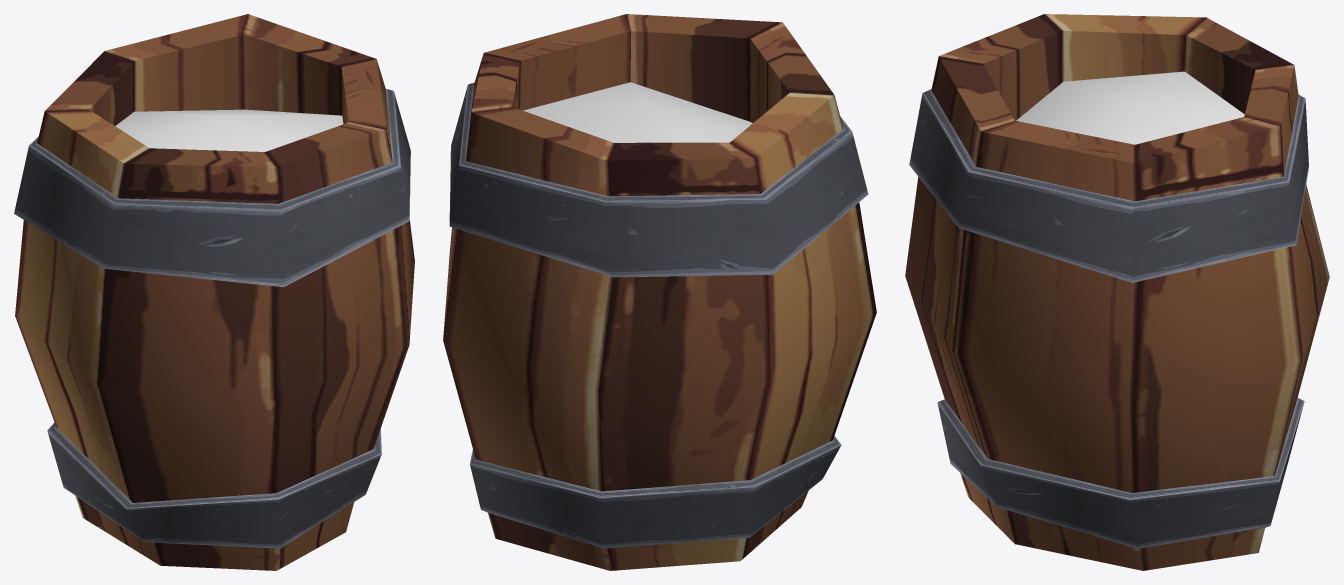
File: tonneau-4.glb
3 views of the same model, side by side, from view 1: azimuth 30°, elevation 25°; view 2: azimuth 150°, elevation 25°; view 3: azimuth 270°, elevation 25° (orthographic). The views are drawn at different scales.
Parts seen in each view (by area): view 1: SM_PROP_barrel_03; view 2: SM_PROP_barrel_03; view 3: SM_PROP_barrel_03.
Boxes of the visible parts, <box> form: SM_PROP_barrel_03: <box>14,14,414,570</box>; SM_PROP_barrel_03: <box>443,14,876,570</box>; SM_PROP_barrel_03: <box>905,14,1329,570</box>.
Bounding box in the file's own units: 0.7705 × 0.8439 × 0.7486.
Materials: 3 (2 with a texture image).
